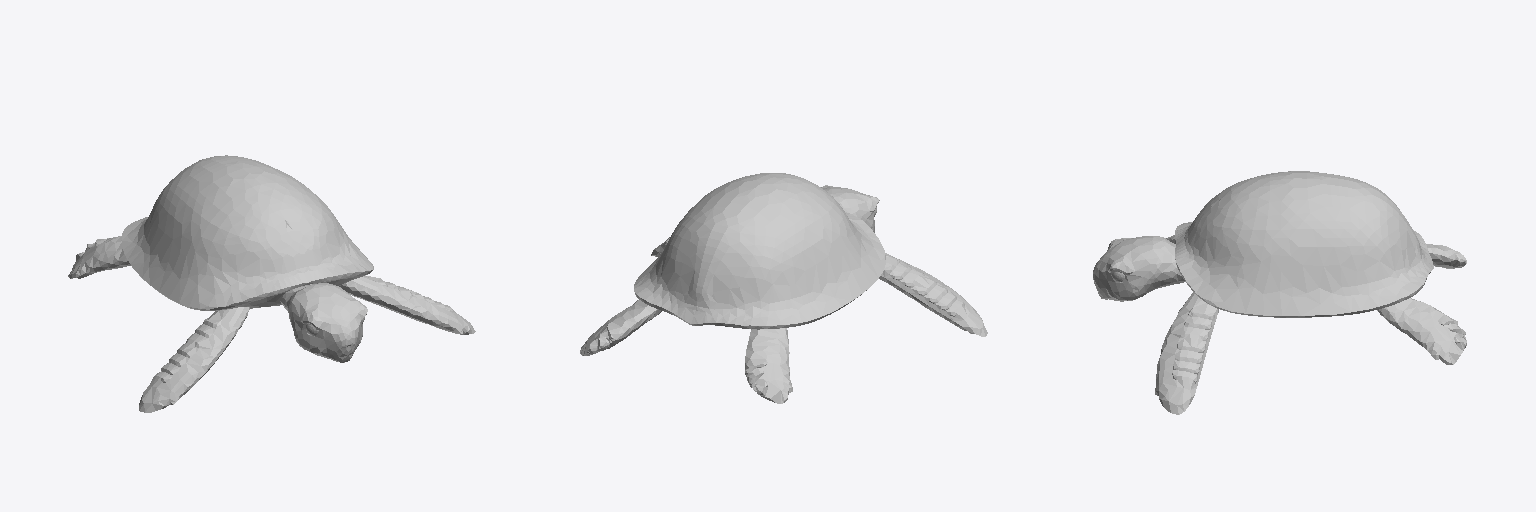
File: TRTL_BOX.OBJ
3 renders of one model, left to right at view 1: azimuth 30°, elevation 25°; view 2: azimuth 150°, elevation 25°; view 3: azimuth 270°, elevation 25°, orthographic.
Parts seen in each view (by area): view 1: trtb_body; view 2: trtb_body; view 3: trtb_body.
Part boxes in pixels (left/top/right/bottom): trtb_body: left=68, top=155, right=475, bottom=412; trtb_body: left=580, top=173, right=987, bottom=403; trtb_body: left=1093, top=171, right=1466, bottom=414.
Bounding box in the file's own units: 0.1859 × 0.0823 × 0.1797.